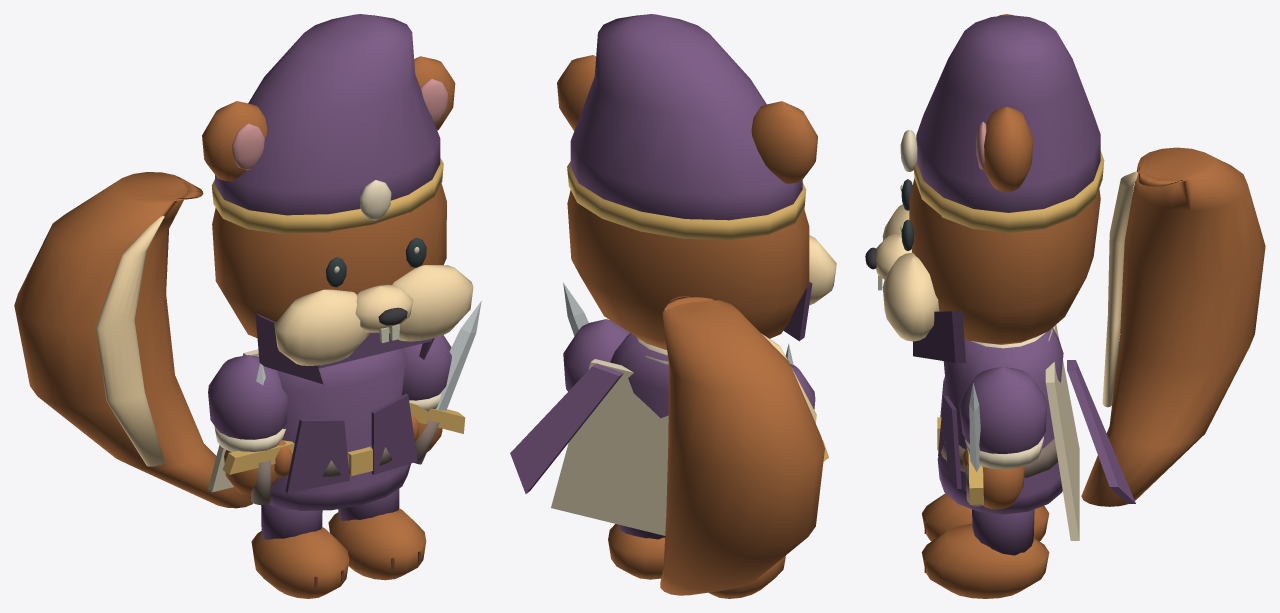
Rendered from assassin.glb.
3 renders of one model, left to right at view 1: azimuth 30°, elevation 25°; view 2: azimuth 150°, elevation 25°; view 3: azimuth 270°, elevation 25°, orthographic. The views are drawn at different scales.
Parts seen in each view (by area): view 1: Squirrel large curled tail, Folded Persian tiara, Animal cheek head, Short folded tunic, Squirrel pale tail sweep, Squirrel plump cheek, Puff sleeve, Soft animal paw, Soft animal paw.001, Squirrel plump cheek.001, Tiara gold band, Coat fold (+19 smaller); view 2: Squirrel large curled tail, Folded Persian tiara, Animal cheek head, Persian shoulder drape, Tiara gold band, Long scarf tail, Squirrel rounded ear, Short folded tunic, Puff sleeve.001, Soft animal paw.001, Squirrel rounded ear.001, Squirrel plump cheek (+3 smaller); view 3: Squirrel large curled tail, Folded Persian tiara, Animal cheek head, Short folded tunic, Soft animal paw.001, Puff sleeve.001, Tiara gold band, Squirrel plump cheek.001, Squirrel rounded ear.001, Persian shoulder drape, Squirrel pale tail sweep, Long scarf tail (+11 smaller).
Part boxes in pixels (<box>): Squirrel large curled tail: <box>14,172,253,508</box>; Folded Persian tiara: <box>215,14,440,215</box>; Animal cheek head: <box>212,183,446,337</box>; Short folded tunic: <box>269,348,410,510</box>; Squirrel pale tail sweep: <box>95,215,164,466</box>; Squirrel plump cheek: <box>274,289,369,365</box>; Puff sleeve: <box>208,355,287,439</box>; Soft animal paw: <box>251,527,349,598</box>; Soft animal paw.001: <box>328,508,426,580</box>; Squirrel plump cheek.001: <box>389,265,473,341</box>; Tiara gold band: <box>211,158,443,234</box>; Coat fold: <box>285,419,349,493</box>; Squirrel large curled tail: <box>660,296,824,595</box>; Folded Persian tiara: <box>570,14,802,220</box>; Animal cheek head: <box>567,190,809,349</box>; Persian shoulder drape: <box>551,359,668,535</box>; Tiara gold band: <box>567,161,806,239</box>; Long scarf tail: <box>510,363,623,493</box>; Squirrel rounded ear: <box>751,101,817,183</box>; Short folded tunic: <box>610,333,668,418</box>; Puff sleeve.001: <box>563,319,629,391</box>; Soft animal paw.001: <box>608,524,664,579</box>; Squirrel rounded ear.001: <box>557,55,596,130</box>; Squirrel plump cheek: <box>809,235,836,305</box>; Squirrel large curled tail: <box>1081,147,1265,506</box>; Folded Persian tiara: <box>916,15,1100,212</box>; Animal cheek head: <box>909,178,1100,344</box>; Short folded tunic: <box>937,327,1063,514</box>; Soft animal paw.001: <box>921,523,1049,598</box>; Puff sleeve.001: <box>959,366,1047,454</box>; Tiara gold band: <box>913,151,1104,232</box>; Squirrel plump cheek.001: <box>882,252,939,341</box>; Squirrel rounded ear.001: <box>983,107,1033,191</box>; Persian shoulder drape: <box>1045,325,1079,540</box>; Squirrel pale tail sweep: <box>1102,171,1137,407</box>; Long scarf tail: <box>1067,360,1135,503</box>.
Bounding box in the file's own units: 1.19 × 1.75 × 1.13.
